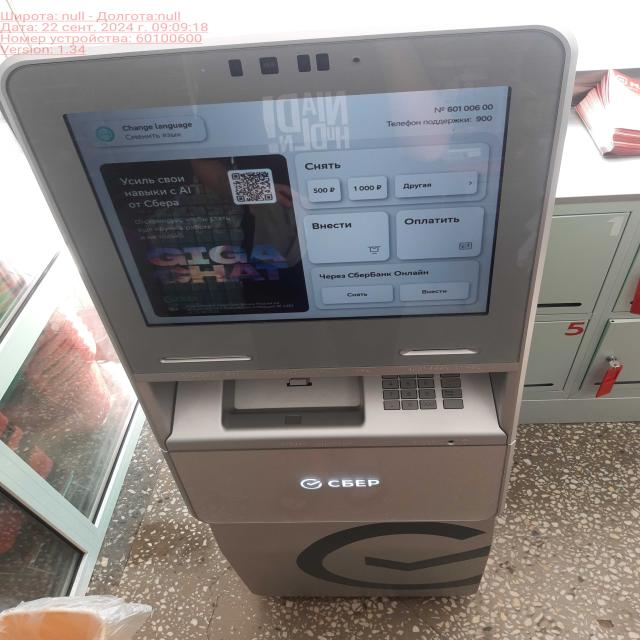bank: (0, 25, 640, 595)
